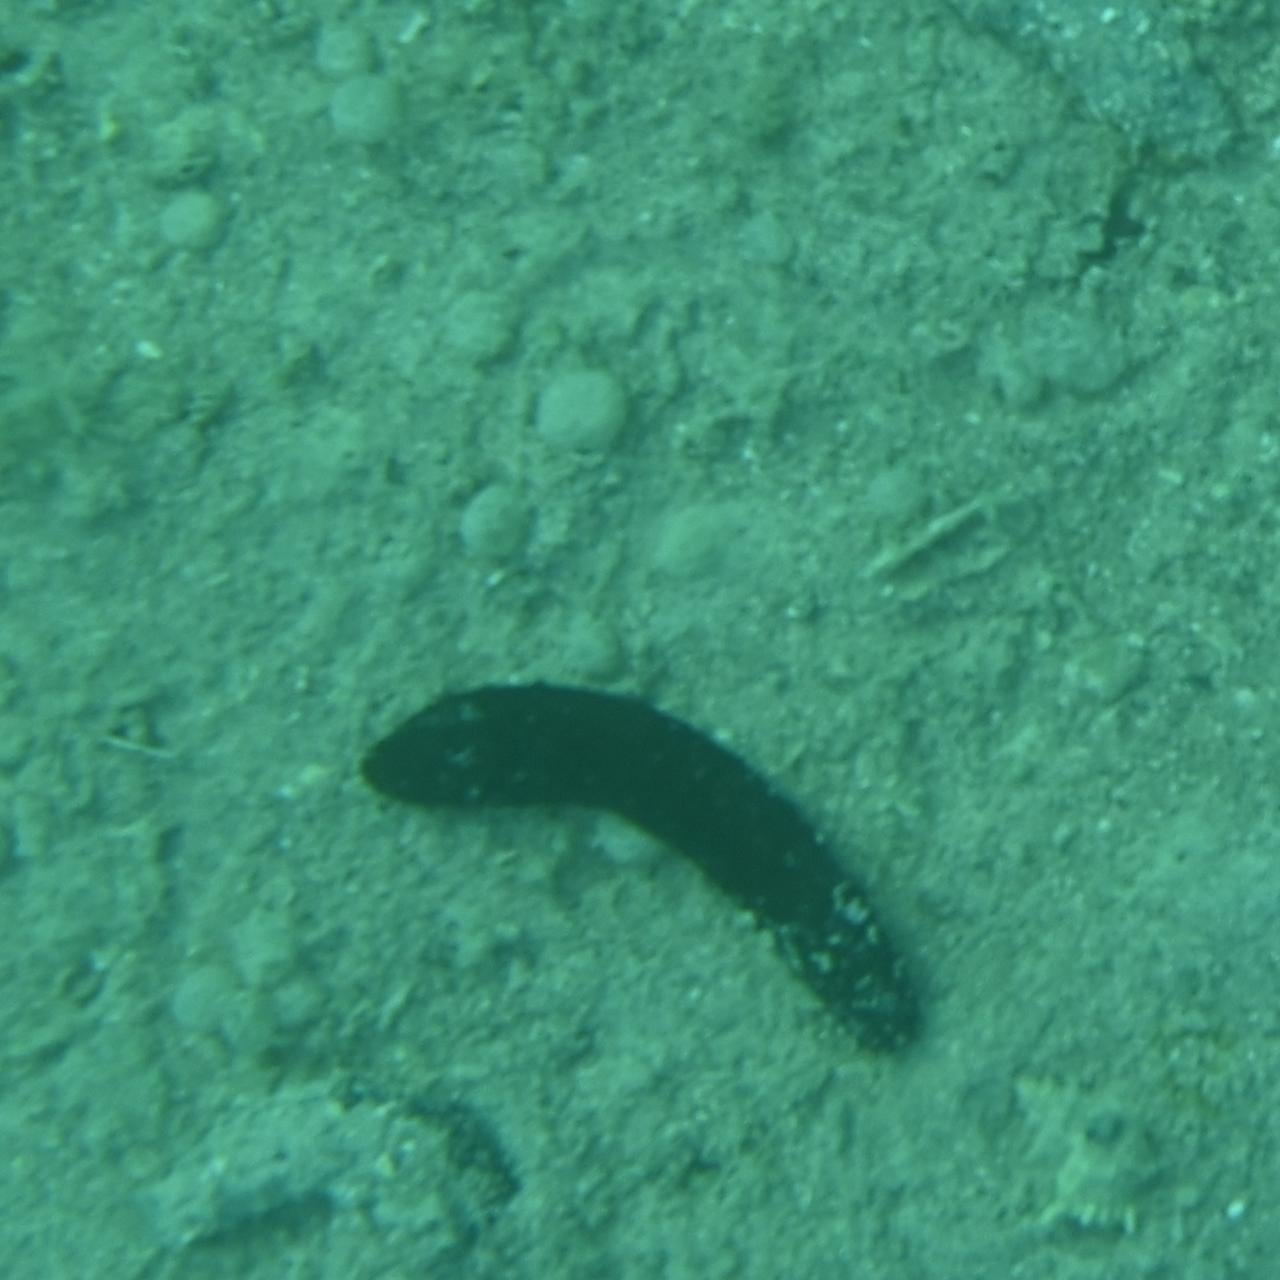Holothuria tubulosa: (358, 676, 948, 1062), (683, 0, 1254, 218), (125, 1073, 498, 1280)
